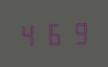four: (18, 21, 40, 47)
nine: (65, 19, 87, 45)
six: (42, 20, 64, 46)
